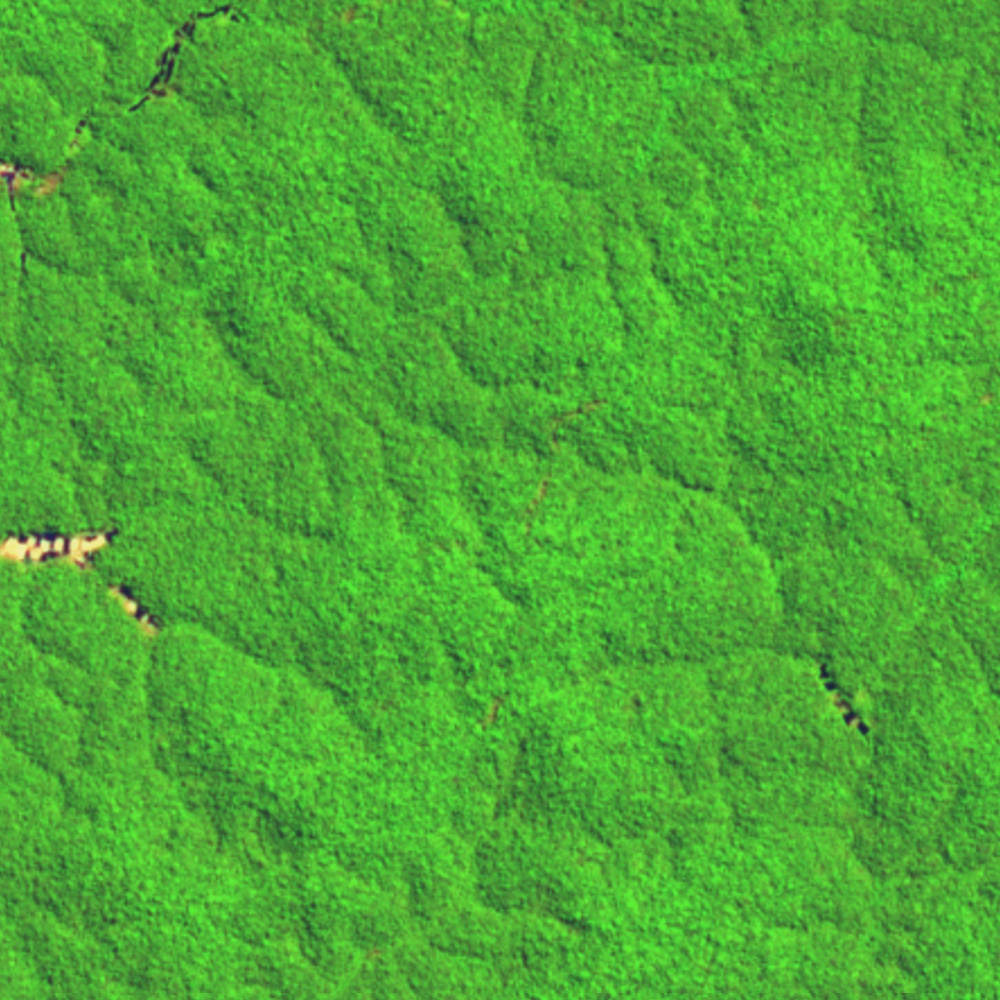illegal: (1, 524, 167, 642), (125, 1, 248, 117), (516, 396, 612, 524), (1, 111, 93, 213), (814, 657, 876, 741)
